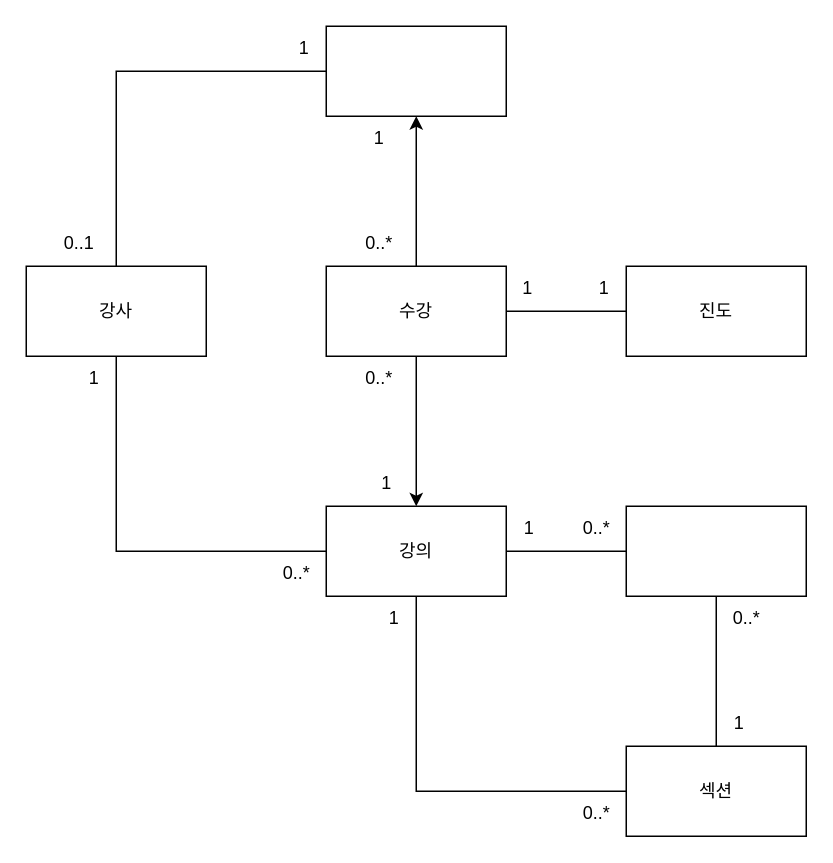
This 833x863 diagram has some shape labels left out. The shapes that lost their labels are listed below. From the top down, each one's box as (x1, y1, x2, y2) in pixels, then its label:
(325, 25, 506, 116): 회원
(625, 505, 806, 596): 수업
